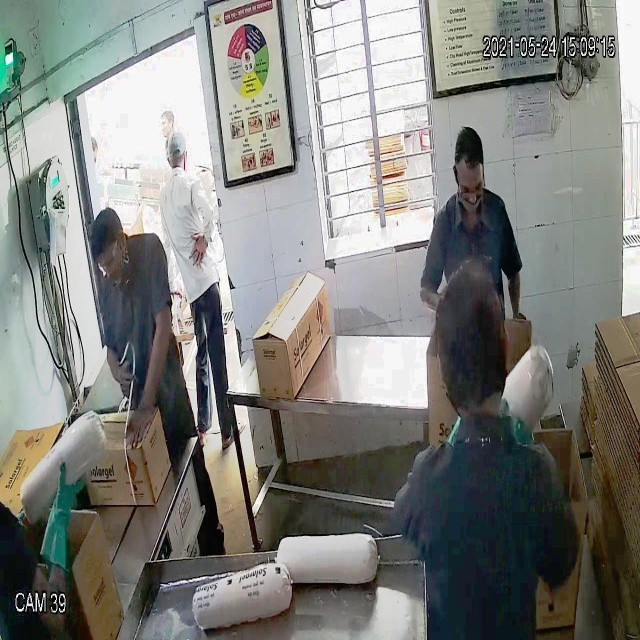Gafas: (454, 164, 488, 204)
